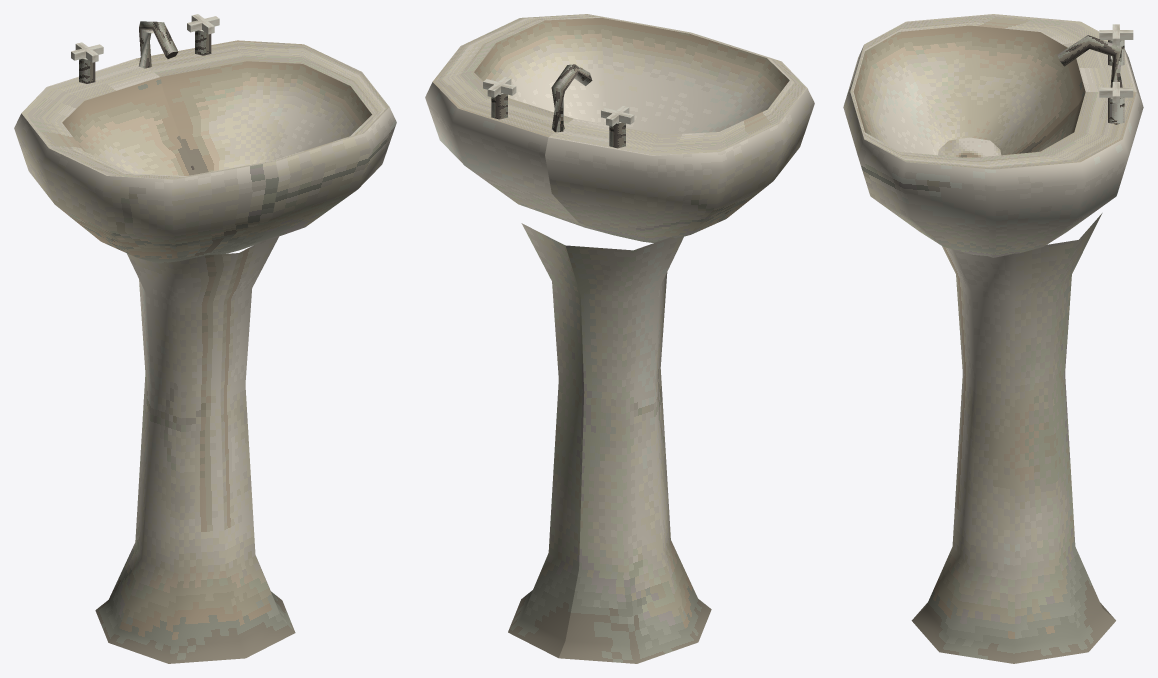
The model's file is sink_pedestal.glb.
3 views of the same model, side by side, from view 1: azimuth 30°, elevation 25°; view 2: azimuth 150°, elevation 25°; view 3: azimuth 270°, elevation 25° (orthographic).
Parts seen in each view (by area): view 1: sink_pedestal; view 2: sink_pedestal; view 3: sink_pedestal.
Boxes of the visible parts, x1,y1,x2,y2 form: sink_pedestal: [14, 14, 396, 663]; sink_pedestal: [425, 14, 814, 663]; sink_pedestal: [843, 14, 1143, 663].
Bounding box in the file's own units: 0.56 × 0.9454 × 0.44.
Materials: 1 (1 with a texture image).
